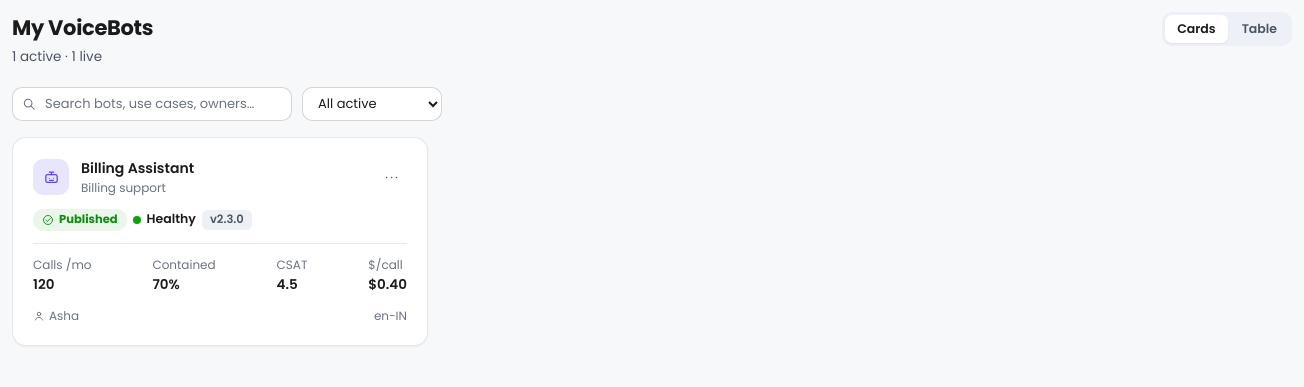
Test: Clone bot action › is hidden without the bots.manage permission
This screenshot has width=1304, height=387.
Expected: the text "Billing Assistant" is shown, 81,158 -> 194,178
Click the button named "More actions".
click(391, 177)  # box 375,161 -> 407,193
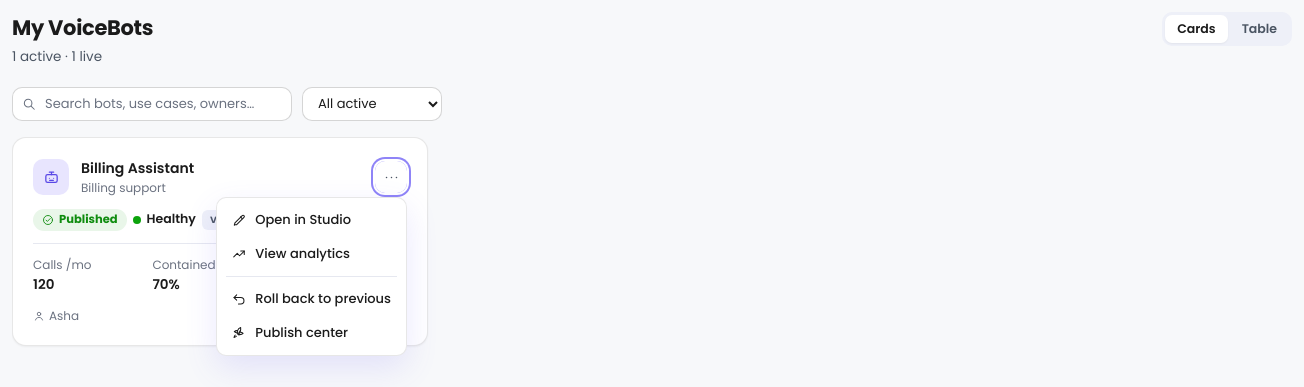
Result: the menu item "View analytics" is shown at 222,237 -> 401,271
